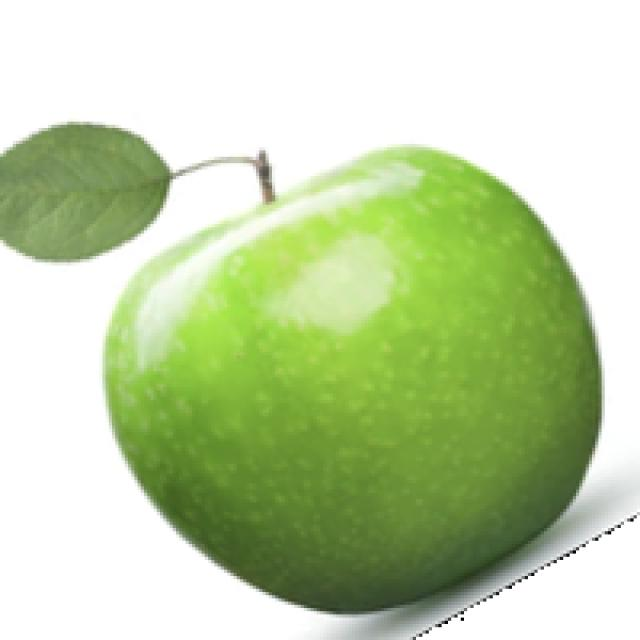apple: (96, 138, 637, 637)
